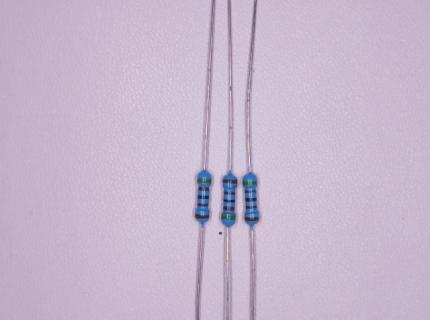Black band: (197, 195, 209, 200), (245, 197, 257, 202), (224, 199, 235, 203)
Brown band: (195, 214, 209, 219), (223, 179, 237, 184), (245, 217, 259, 222), (223, 206, 235, 211), (223, 191, 235, 195), (198, 187, 209, 191), (246, 205, 257, 209), (245, 190, 256, 193), (197, 203, 208, 206)
Green band: (221, 214, 235, 220), (243, 181, 257, 186), (198, 179, 212, 183)
